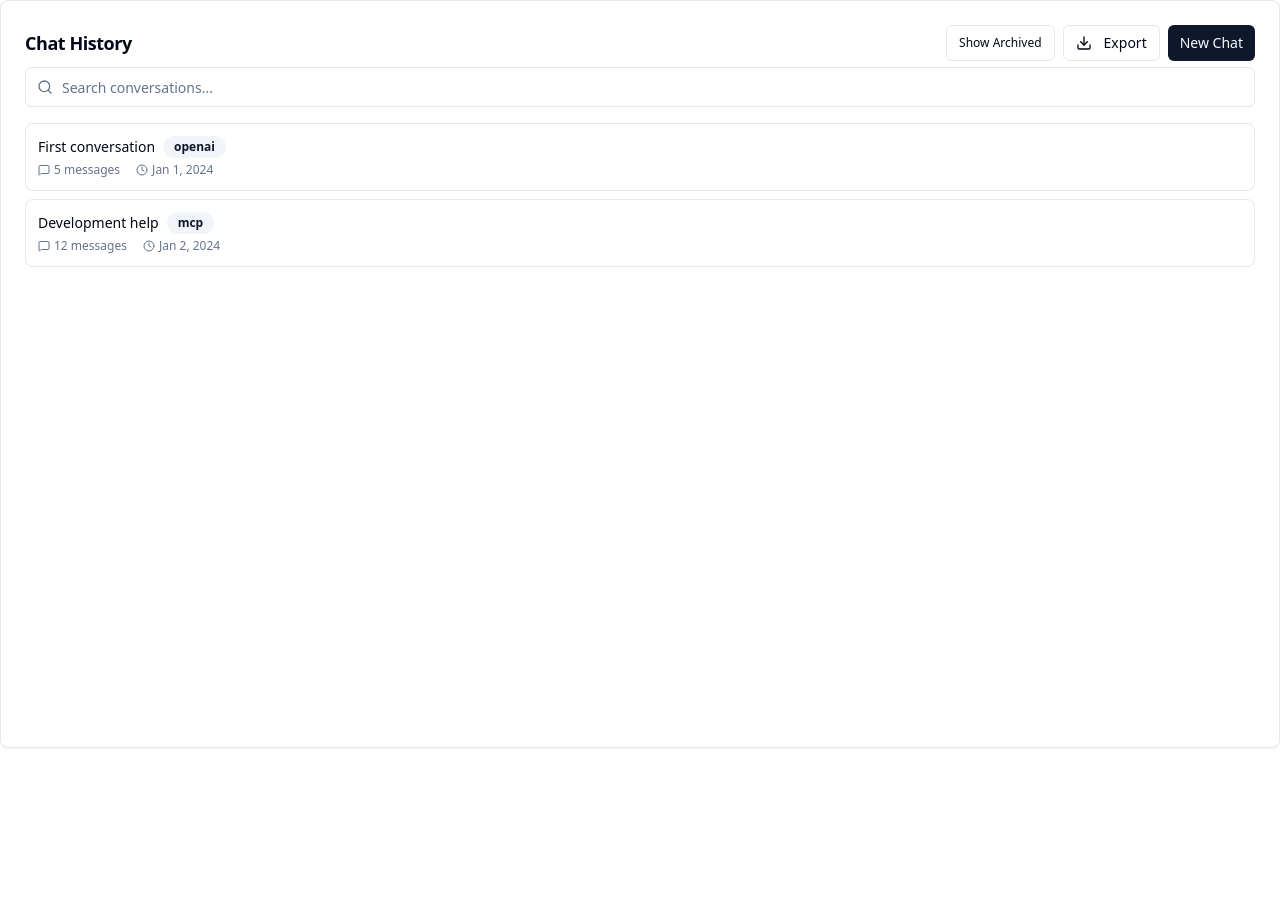
Test: ChatHistory › Export Functionality › should show export options in dropdown menu
Click the button "Export" at (1111, 43), box [1063,25,1160,61]
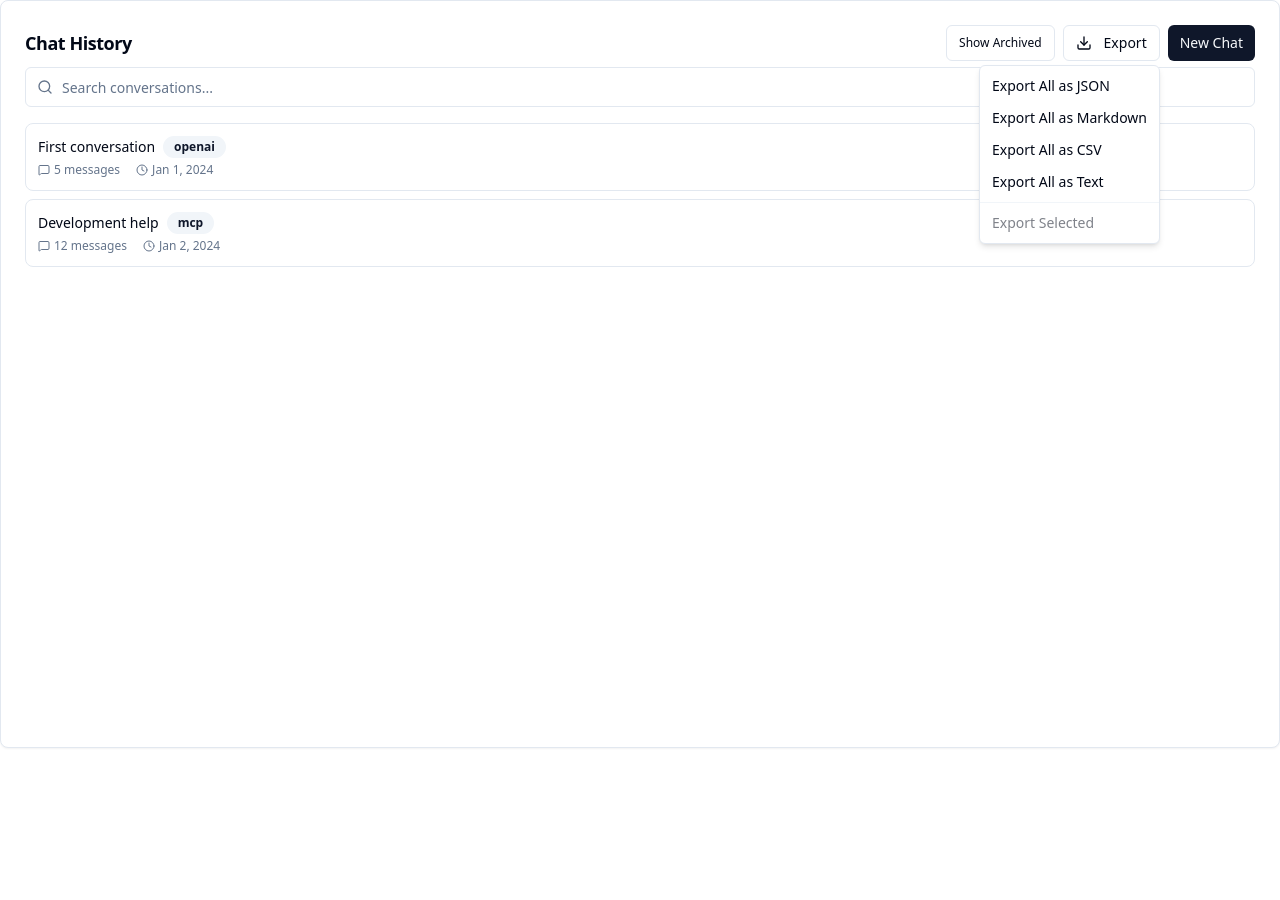
Check: the menu item "Export All as JSON" is shown, box [992,76,1110,95]
Check: the menu item "Export All as Markdown" is shown, box [992,108,1147,127]
Check: the menu item "Export Selected" is shown, box [992,213,1094,232]
